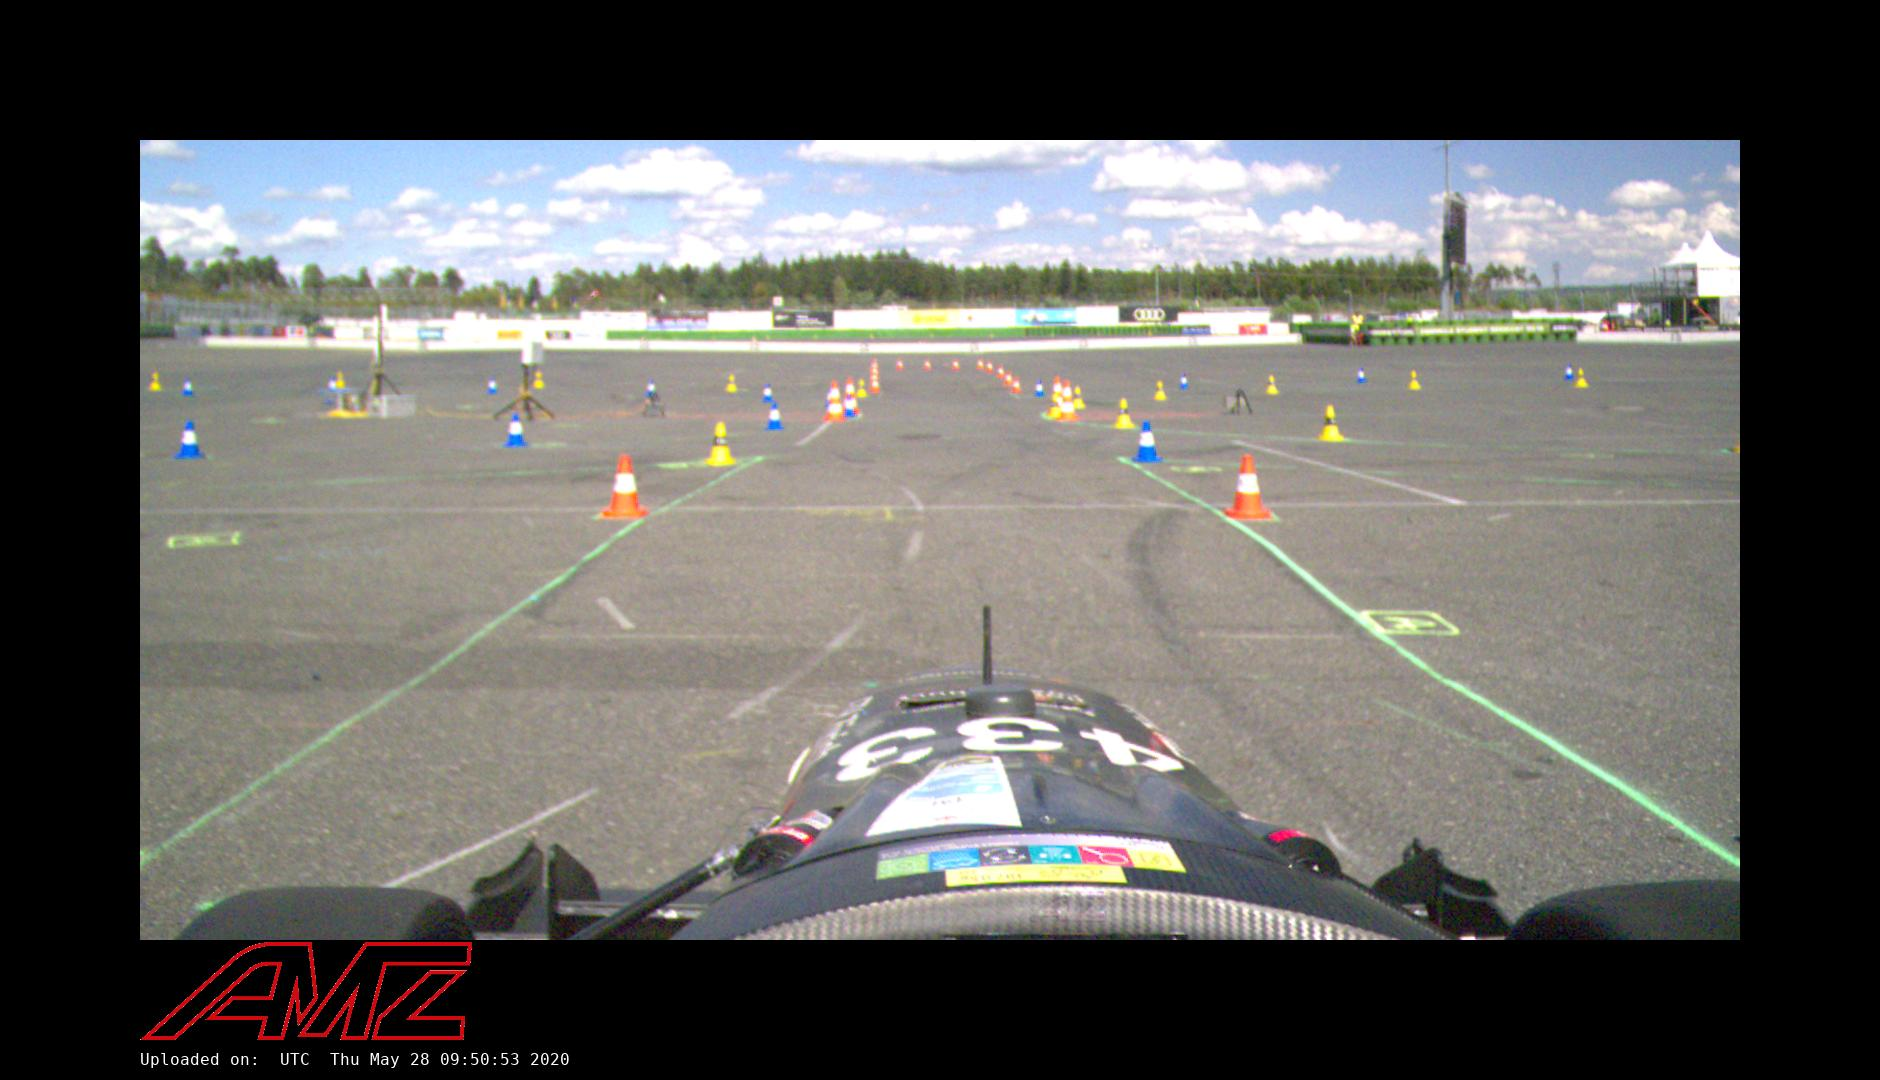blue_cone: (1131, 420, 1163, 463), (174, 421, 205, 460), (503, 412, 529, 448), (764, 402, 784, 431), (844, 395, 857, 418), (762, 383, 775, 403), (486, 375, 499, 395), (645, 380, 659, 398), (182, 378, 194, 396), (1034, 379, 1045, 397), (1356, 367, 1368, 383), (1179, 373, 1190, 390), (1564, 363, 1575, 380), (328, 377, 337, 390)
large_orange_cone: (1056, 380, 1080, 422), (823, 381, 847, 422), (1047, 377, 1067, 417), (843, 378, 861, 416)
orange_cone: (1222, 454, 1276, 521), (597, 454, 650, 519), (1010, 376, 1022, 394), (1004, 371, 1014, 387), (869, 379, 880, 393), (996, 365, 1005, 379), (986, 360, 994, 373), (923, 359, 931, 371), (952, 359, 960, 370), (870, 372, 877, 384), (977, 359, 984, 370), (896, 359, 903, 370), (871, 366, 878, 375), (871, 359, 878, 367)
yellow_cone: (705, 423, 737, 466), (1317, 405, 1345, 441), (1114, 398, 1136, 428), (1047, 394, 1062, 418), (1574, 367, 1590, 388), (1153, 381, 1168, 401), (1407, 371, 1422, 391), (1073, 387, 1086, 410), (148, 372, 163, 391), (1266, 375, 1280, 395), (725, 374, 738, 393), (856, 379, 868, 397), (533, 371, 545, 389), (336, 372, 345, 388)
